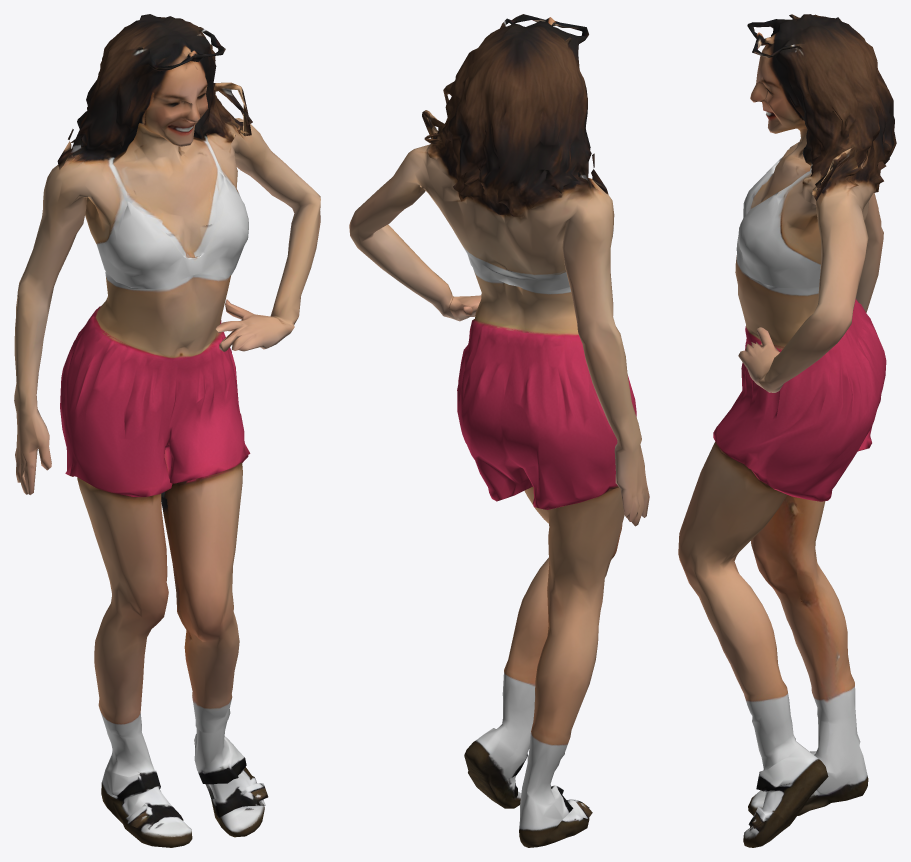
Rendered from bule_cewek_2_idle.glb.
3 renders of one model, left to right at view 1: azimuth 30°, elevation 25°; view 2: azimuth 150°, elevation 25°; view 3: azimuth 270°, elevation 25°, orthographic.
Visible parts, largest first — view 1: tripo_node_4a5a88c2; view 2: tripo_node_4a5a88c2; view 3: tripo_node_4a5a88c2.
Part boxes in pixels (x1,y1,x2,y2): tripo_node_4a5a88c2: (14, 14, 320, 847); tripo_node_4a5a88c2: (349, 14, 649, 847); tripo_node_4a5a88c2: (678, 14, 896, 847).
Bounding box in the file's own units: 37.86 × 99.15 × 24.44.
1 material, 1 textured.
